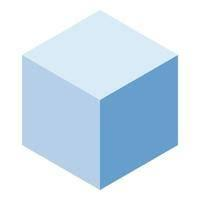cubos: (15, 8, 184, 195)
